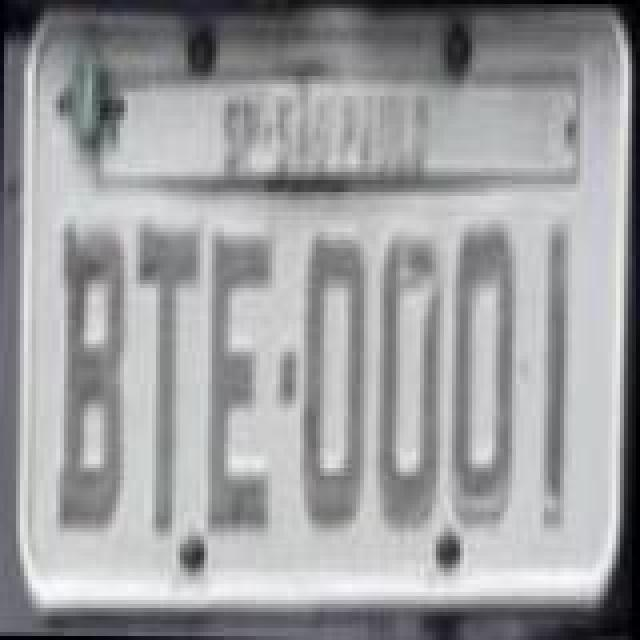1: (542, 220, 574, 532)
B: (56, 222, 128, 538)
E: (204, 226, 276, 538)
O: (376, 230, 452, 526), (450, 218, 522, 530), (298, 224, 370, 528)
T: (128, 224, 200, 540)
